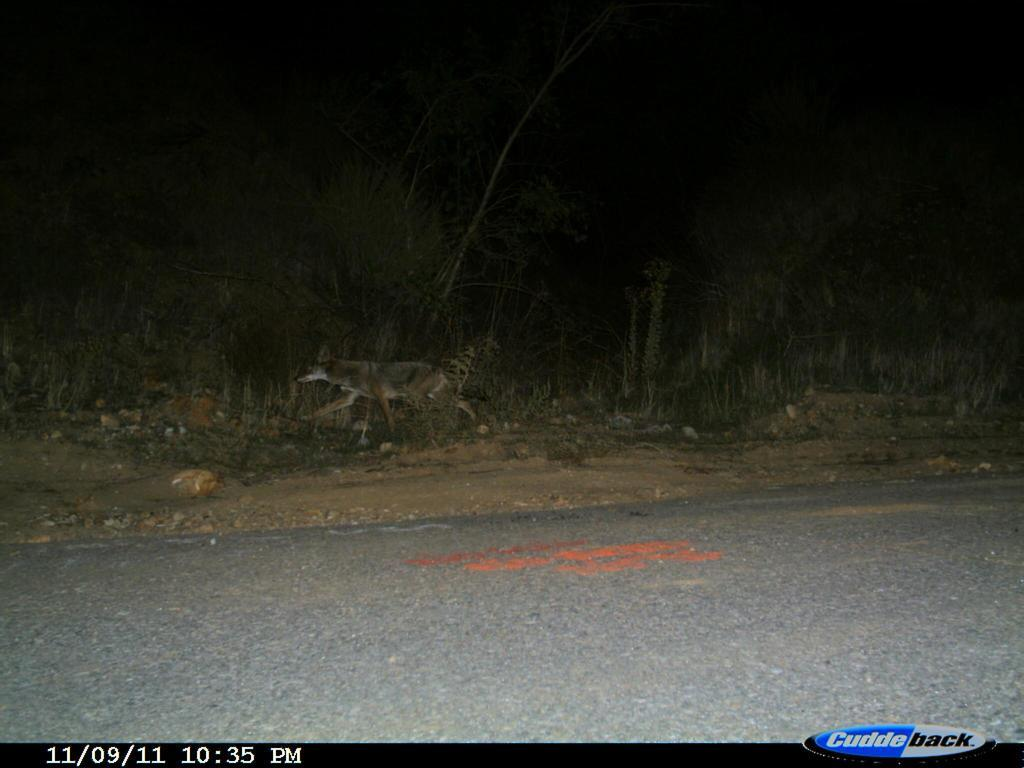coyote: (295, 340, 487, 450)
